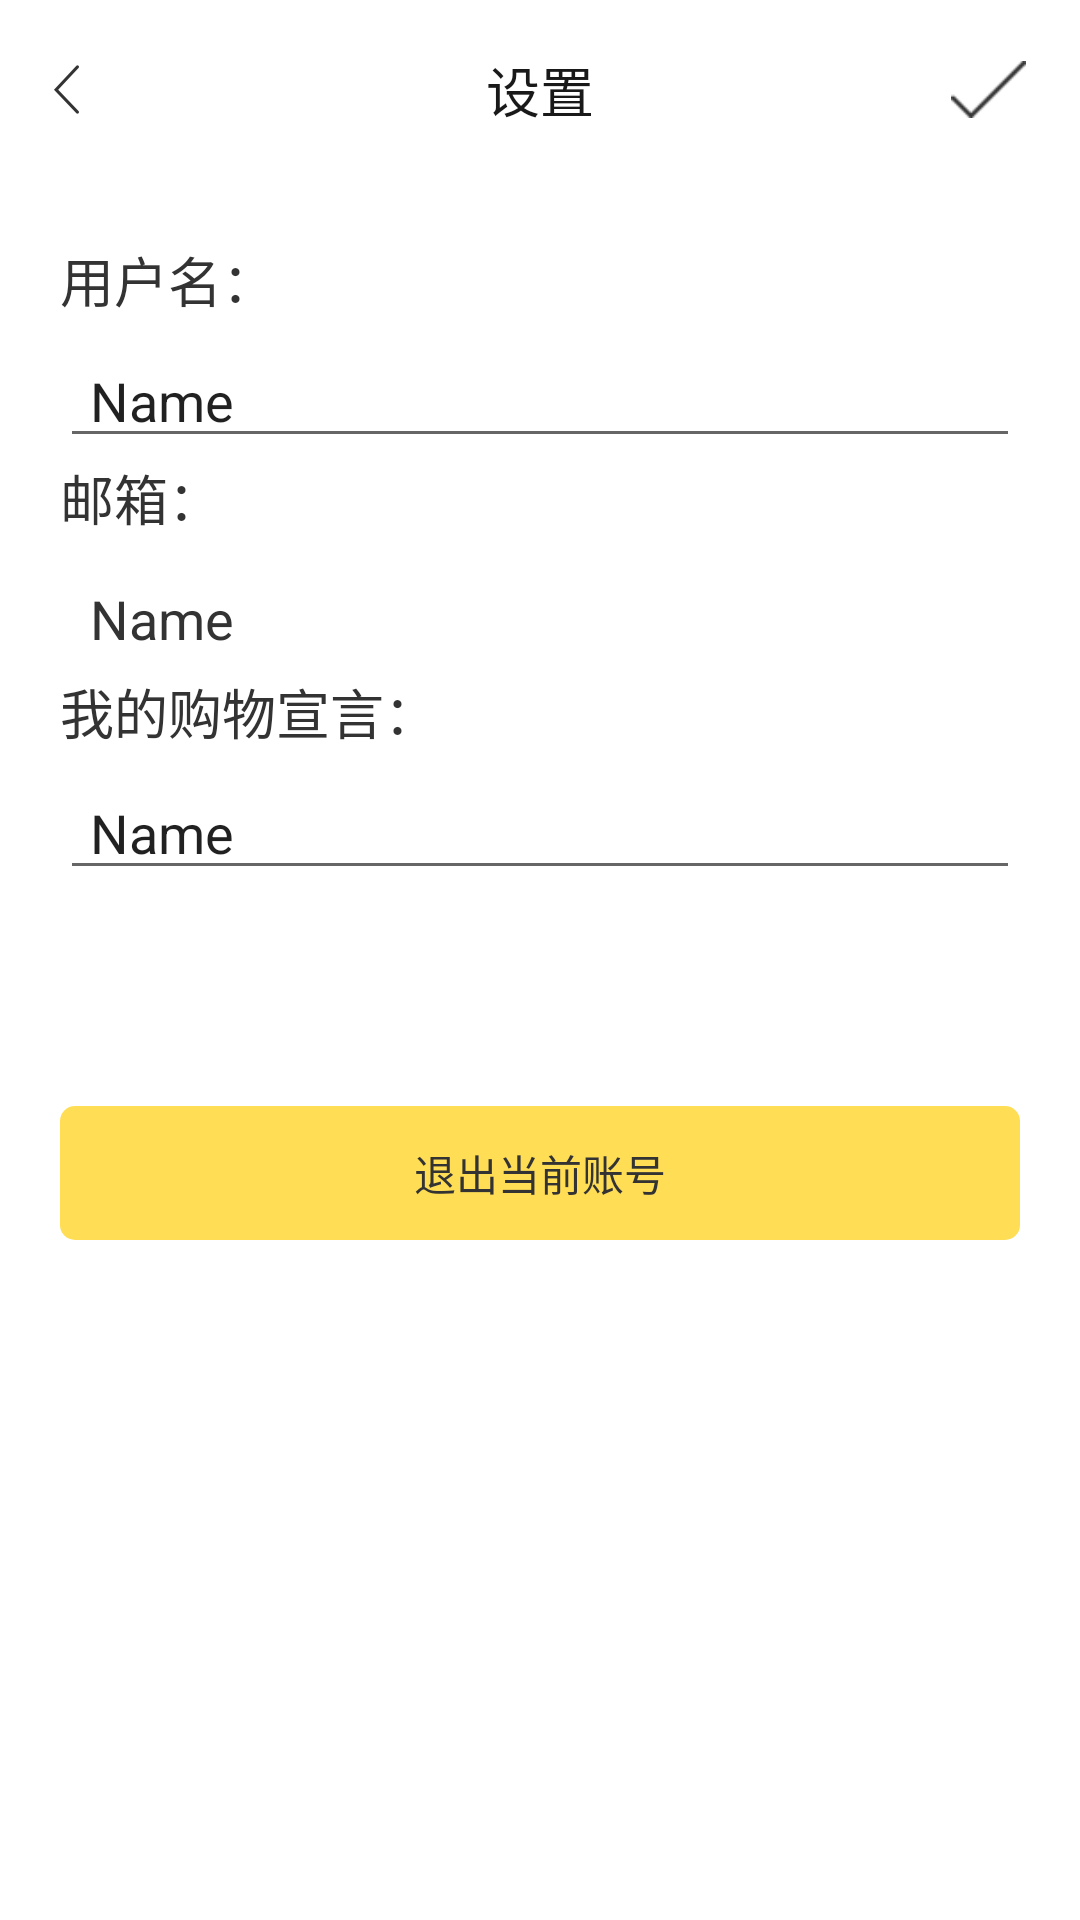

Icons on this 1080px x 1920px Android screen, each with the point to tap as (x=x, y=y):
back: (x=66, y=89)
